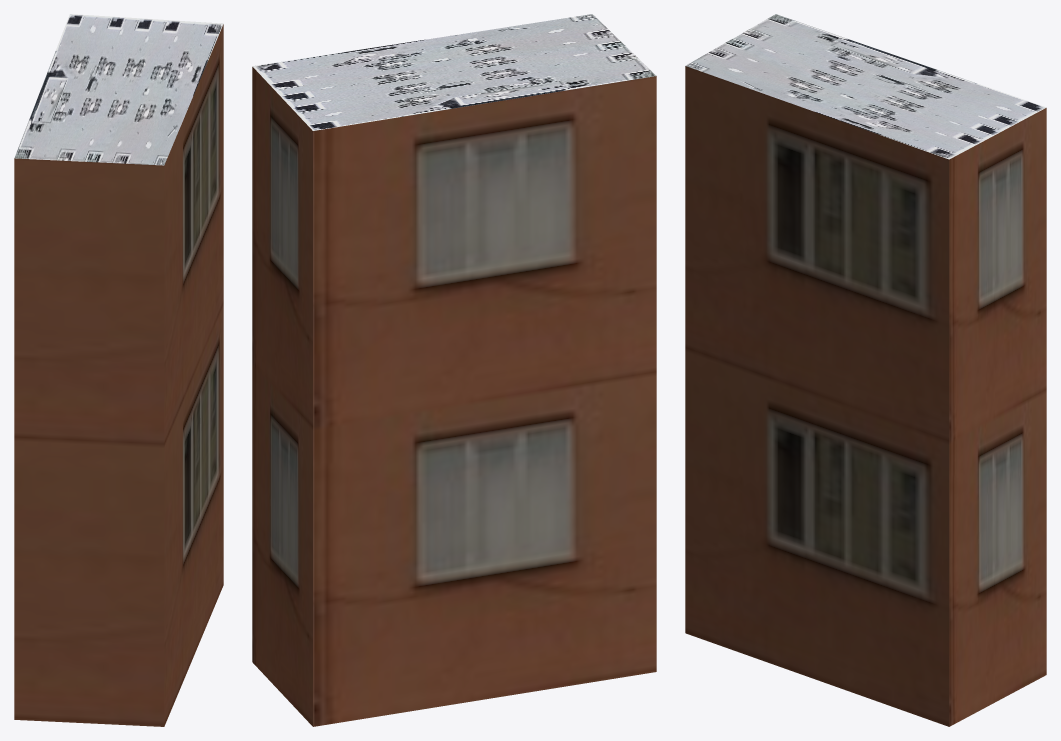
File: ResTex__5031.fbx
3 renders of one model, left to right at view 1: azimuth 30°, elevation 25°; view 2: azimuth 150°, elevation 25°; view 3: azimuth 270°, elevation 25°, orthographic. The views are drawn at different scales.
Parts seen in each view (by area): view 1: CityEngineMaterial_20_m, CityEngineMaterial_m; view 2: CityEngineMaterial_20_m, CityEngineMaterial_m; view 3: CityEngineMaterial_20_m, CityEngineMaterial_m.
Part boxes in pixels (bbox=[...]): CityEngineMaterial_20_m: bbox=[14, 24, 223, 726]; CityEngineMaterial_m: bbox=[14, 14, 223, 165]; CityEngineMaterial_20_m: bbox=[252, 67, 656, 726]; CityEngineMaterial_m: bbox=[252, 14, 656, 130]; CityEngineMaterial_20_m: bbox=[685, 66, 1046, 726]; CityEngineMaterial_m: bbox=[685, 14, 1046, 159].
Size of the model in its own units: 3.3 by 6 by 3.47.
2 materials, 2 textured.
